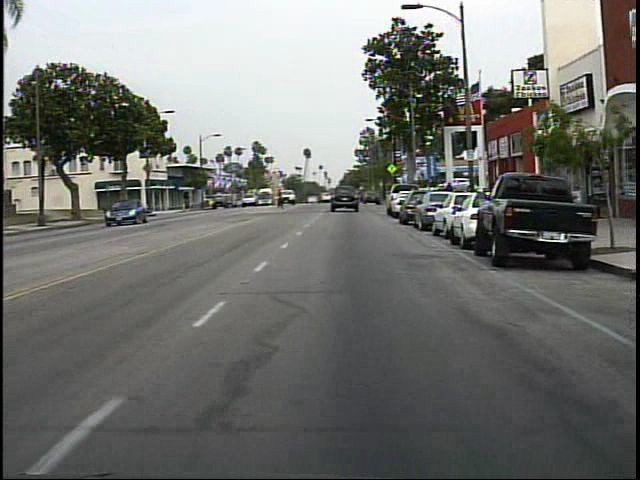person: (440, 178, 460, 217), (274, 185, 288, 214)
